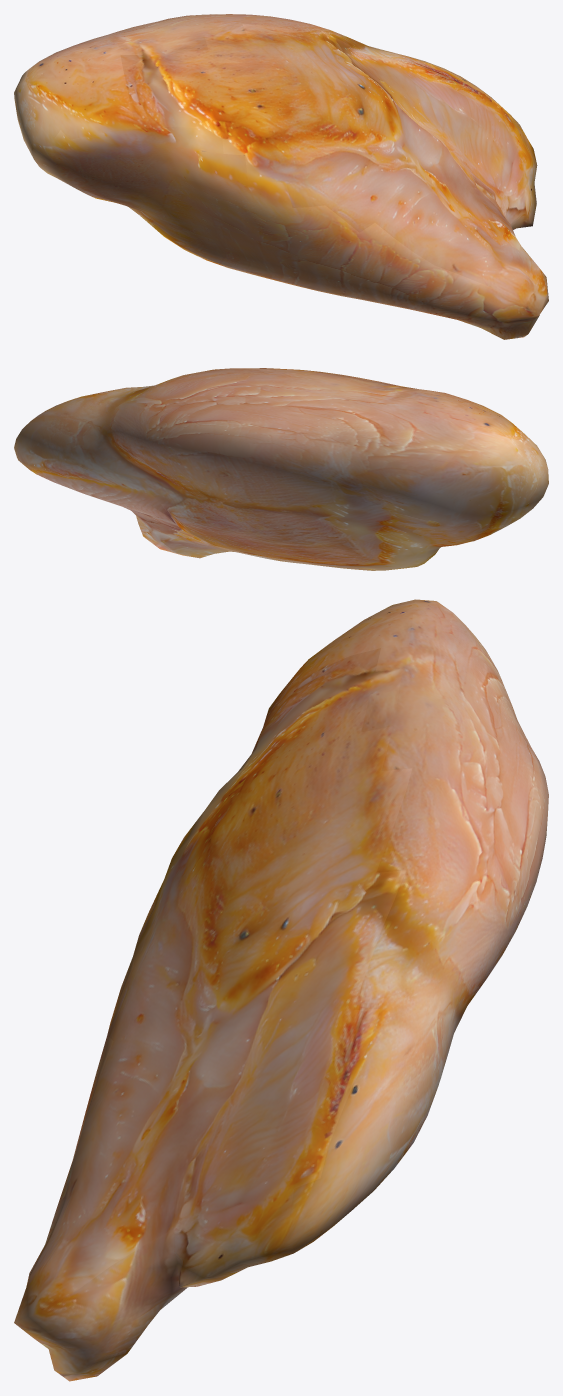
The model's file is chicken.glb.
The picture shows the model from 3 angles, top to bottom: view 1: azimuth 30°, elevation 25°; view 2: azimuth 150°, elevation 25°; view 3: azimuth 270°, elevation 25°; orthographic projection. The views are drawn at different scales.
Parts seen in each view (by area): view 1: default_CookedChickenBreast_0; view 2: default_CookedChickenBreast_0; view 3: default_CookedChickenBreast_0.
Boxes of the visible parts, <box> form: default_CookedChickenBreast_0: <box>14,14,548,339</box>; default_CookedChickenBreast_0: <box>14,368,548,570</box>; default_CookedChickenBreast_0: <box>14,599,548,1381</box>.
Bounding box in the file's own units: 0.1254 × 0.0728 × 0.0723.
Materials: 1 (1 with a texture image).
